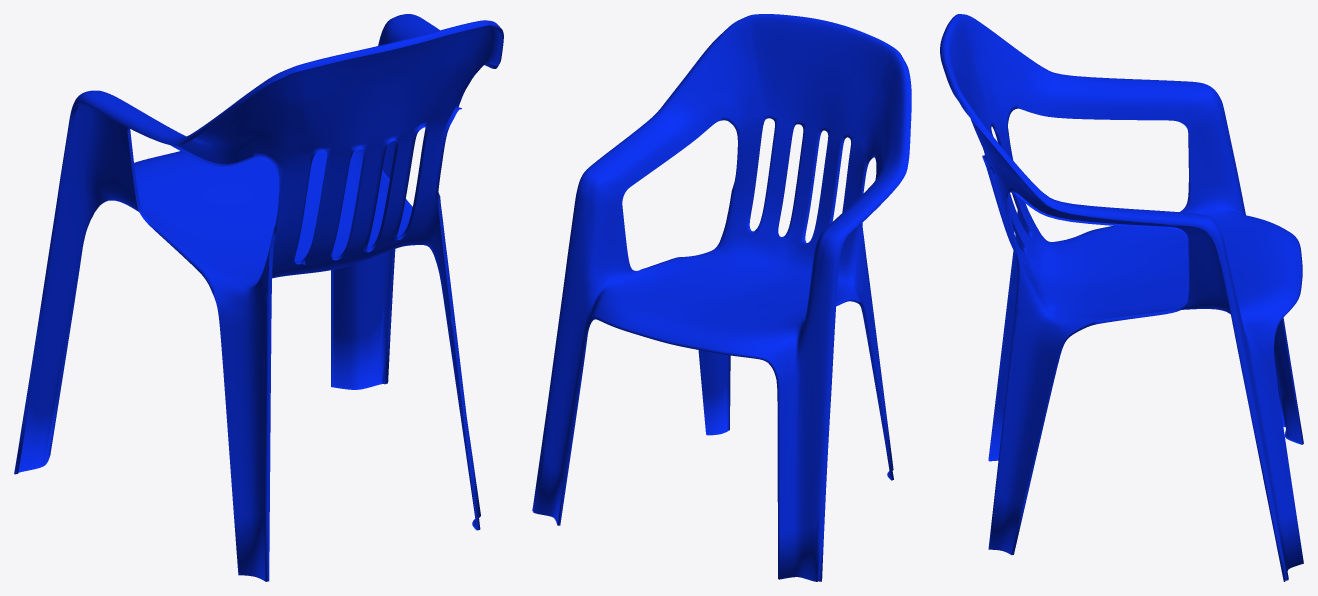
3 renders of one model, left to right at view 1: azimuth 30°, elevation 25°; view 2: azimuth 150°, elevation 25°; view 3: azimuth 270°, elevation 25°, orthographic. The views are drawn at different scales.
Parts seen in each view (by area): view 1: tuinstoel-plastic_001; view 2: tuinstoel-plastic_001; view 3: tuinstoel-plastic_001.
Boxes of the visible parts, x1=… form: tuinstoel-plastic_001: x1=14, y1=14, x2=503, y2=581; tuinstoel-plastic_001: x1=532, y1=14, x2=911, y2=581; tuinstoel-plastic_001: x1=940, y1=14, x2=1303, y2=581.
Bounding box in the file's own units: 25.96 × 35.41 × 25.5.
